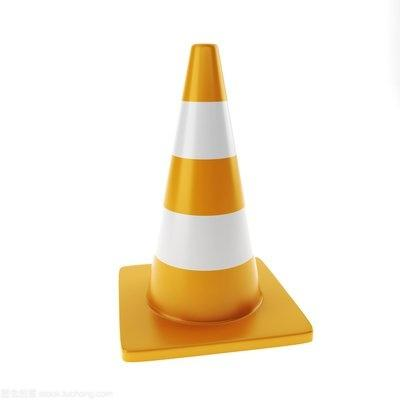cone_barrel: (134, 46, 278, 334)
